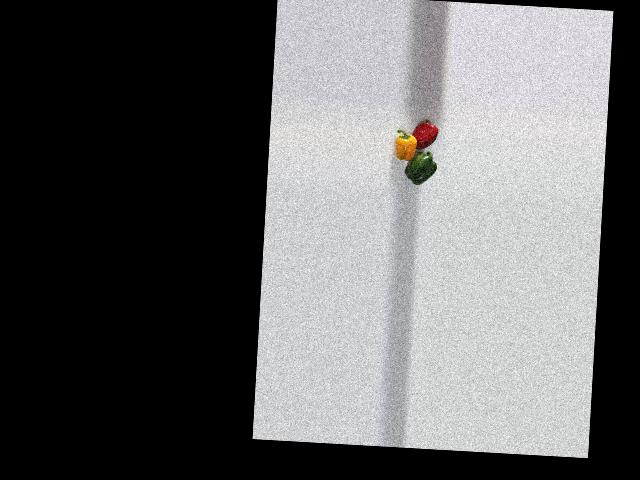bell_pepper: (392, 129, 421, 162)
